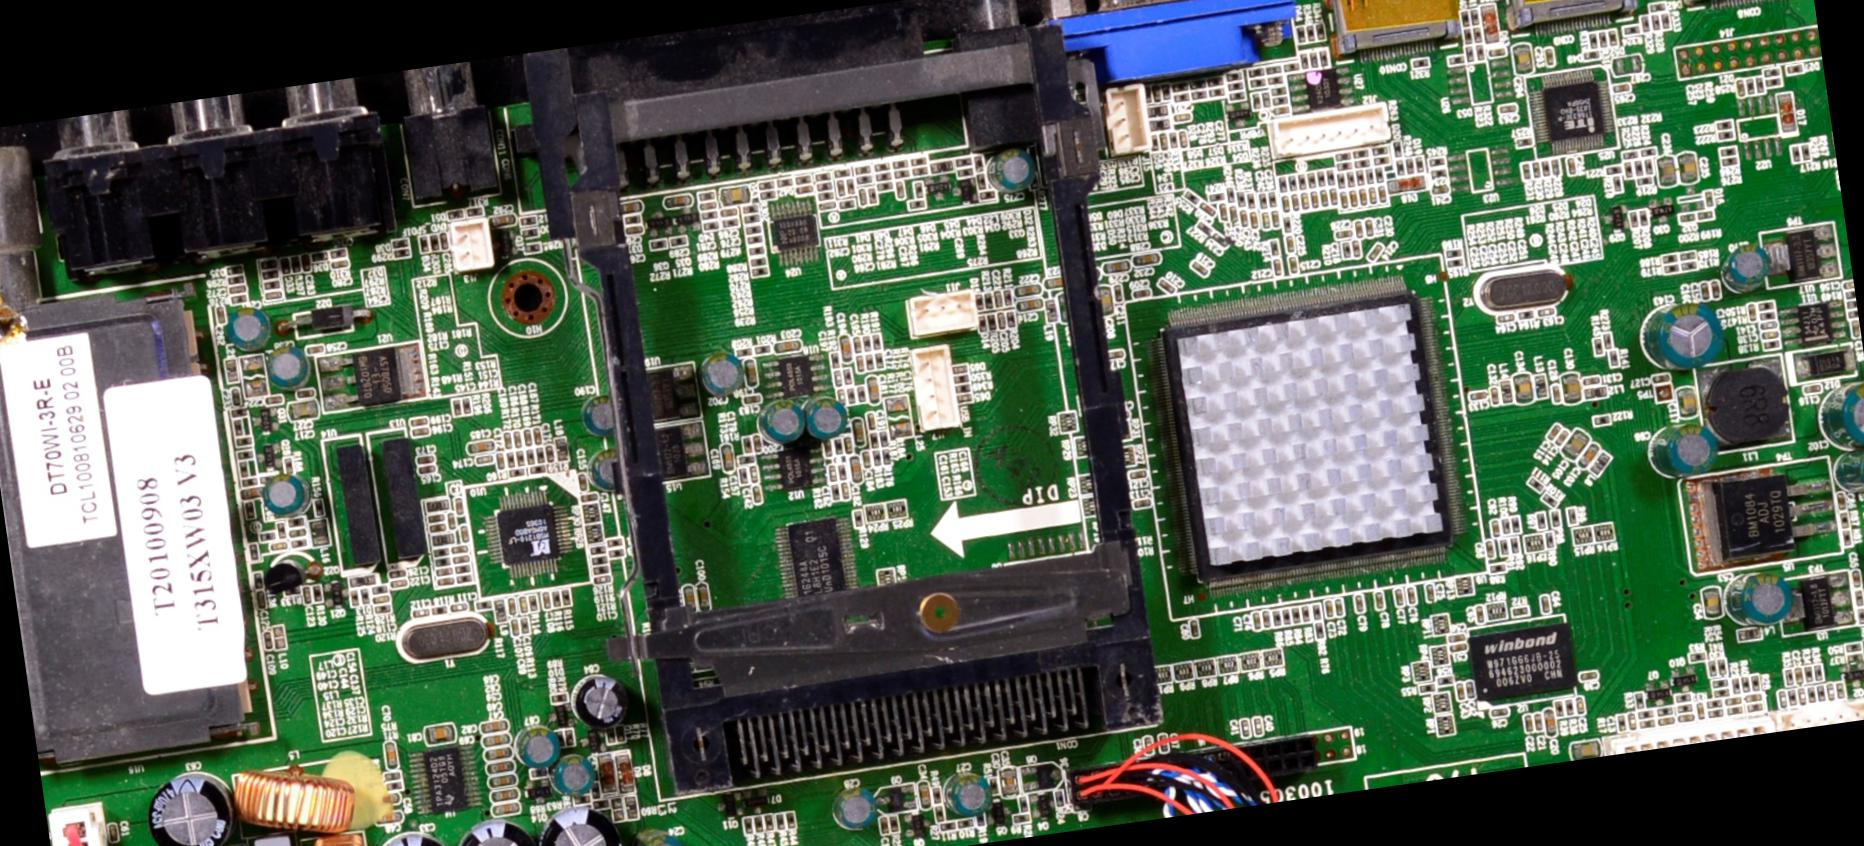Capacitor Jumper: (1723, 572, 1790, 629), (1828, 383, 1863, 448), (990, 149, 1039, 190), (1833, 448, 1863, 491), (1675, 385, 1700, 422), (1510, 39, 1535, 72), (1679, 150, 1701, 183), (422, 722, 456, 744), (1561, 370, 1583, 402), (1611, 53, 1644, 75), (1658, 153, 1680, 187), (289, 399, 320, 422), (1511, 371, 1534, 402), (1568, 739, 1602, 759), (720, 183, 750, 203), (489, 771, 519, 789), (489, 783, 519, 801), (383, 740, 402, 769), (480, 730, 510, 747), (493, 797, 523, 815), (915, 778, 933, 807), (743, 356, 758, 389), (864, 374, 881, 404), (718, 444, 736, 472), (376, 808, 403, 826), (465, 438, 493, 455), (479, 716, 508, 733), (485, 757, 514, 774), (1102, 259, 1132, 274), (1563, 427, 1579, 456), (573, 468, 591, 493), (297, 583, 315, 608), (1486, 702, 1511, 720), (663, 192, 692, 208), (1014, 282, 1043, 297), (838, 335, 854, 364), (850, 416, 865, 443), (506, 615, 523, 640), (1190, 258, 1210, 278), (1132, 252, 1161, 265), (1542, 708, 1557, 733), (1098, 286, 1112, 315), (849, 456, 863, 482), (530, 427, 548, 447), (414, 450, 436, 466), (775, 339, 801, 352), (485, 745, 511, 758), (1043, 276, 1066, 290), (409, 422, 430, 437), (451, 495, 466, 517), (1580, 442, 1595, 463), (433, 563, 458, 576), (266, 538, 289, 553), (1155, 131, 1171, 151), (445, 511, 460, 531), (451, 550, 471, 566), (327, 258, 351, 271), (1016, 297, 1043, 309), (376, 791, 399, 804), (1522, 712, 1535, 735), (1172, 109, 1194, 124), (893, 178, 907, 200), (1131, 494, 1152, 509), (516, 593, 530, 614), (1574, 693, 1588, 714), (617, 200, 642, 211), (1177, 128, 1190, 151), (416, 462, 439, 475), (1155, 732, 1169, 755), (1160, 274, 1176, 293), (523, 428, 537, 448), (1652, 370, 1673, 384), (1372, 592, 1386, 612), (1249, 611, 1264, 631), (1488, 384, 1500, 408), (1429, 182, 1450, 195), (1272, 255, 1285, 277), (1800, 381, 1821, 394), (1238, 718, 1251, 739), (408, 417, 430, 429), (471, 454, 493, 466), (1578, 372, 1600, 384), (1463, 680, 1475, 702), (1495, 103, 1520, 114), (495, 453, 508, 473), (1468, 389, 1488, 402), (504, 596, 517, 617), (1188, 617, 1201, 637), (1322, 599, 1335, 619), (1538, 594, 1551, 614), (1202, 202, 1216, 220), (1214, 229, 1228, 247), (741, 392, 762, 404), (510, 429, 524, 447), (578, 490, 599, 501), (859, 448, 871, 469), (1549, 381, 1561, 403), (1675, 711, 1696, 722), (1107, 345, 1126, 358), (594, 572, 613, 585), (1393, 587, 1406, 606), (623, 222, 646, 233), (1406, 585, 1417, 607), (1150, 83, 1161, 103), (1612, 81, 1632, 93), (817, 198, 837, 210), (1564, 154, 1576, 175), (264, 392, 284, 404), (1849, 317, 1860, 337), (751, 482, 763, 503), (386, 568, 407, 580), (1127, 467, 1147, 479), (1260, 610, 1272, 630), (1725, 705, 1745, 716), (1331, 598, 1346, 614), (1453, 681, 1467, 697), (1709, 280, 1723, 298), (996, 310, 1007, 332), (1259, 88, 1271, 107), (1280, 192, 1292, 211), (1350, 238, 1362, 257), (831, 370, 843, 389), (1699, 280, 1711, 299), (1142, 735, 1154, 755), (1531, 713, 1543, 732), (1626, 711, 1638, 730), (1248, 90, 1261, 107), (1835, 491, 1849, 507), (1451, 640, 1468, 654), (1834, 682, 1847, 699), (748, 461, 758, 481), (1474, 602, 1485, 623), (1252, 715, 1262, 735), (1544, 46, 1556, 64), (1367, 185, 1379, 203), (1377, 187, 1388, 204), (838, 481, 850, 499), (449, 543, 467, 555), (372, 592, 390, 604), (410, 605, 428, 617), (1272, 105, 1291, 115), (1298, 190, 1309, 209), (1491, 519, 1501, 538), (854, 355, 865, 372), (1776, 690, 1788, 707), (436, 576, 456, 586), (447, 601, 467, 611), (1447, 631, 1467, 640), (795, 183, 813, 194), (856, 187, 867, 204), (1734, 77, 1745, 95), (1328, 188, 1339, 206), (1366, 244, 1377, 261), (851, 336, 862, 354), (504, 431, 515, 449), (1795, 688, 1806, 706), (1354, 594, 1366, 610), (697, 200, 716, 209), (719, 207, 738, 216), (1229, 206, 1239, 225), (1240, 208, 1249, 227), (1260, 210, 1270, 229), (1334, 228, 1353, 238), (994, 289, 1003, 308), (865, 412, 875, 431), (1486, 539, 1495, 558), (1425, 581, 1435, 600), (1694, 699, 1704, 718), (1656, 716, 1675, 726), (1339, 191, 1349, 208), (1545, 422, 1556, 438), (836, 178, 845, 196), (1220, 202, 1229, 220), (1114, 283, 1123, 301), (1795, 668, 1805, 686), (1268, 211, 1279, 227), (1746, 692, 1762, 702), (1291, 191, 1301, 208), (1320, 189, 1329, 206), (1132, 288, 1151, 296), (1826, 683, 1835, 700), (1358, 191, 1369, 204), (1488, 46, 1506, 55), (1354, 219, 1362, 236), (844, 435, 852, 453), (1580, 669, 1598, 677), (1310, 192, 1320, 208), (1348, 191, 1358, 207), (459, 524, 468, 539), (1555, 429, 1566, 442), (389, 579, 405, 587), (1746, 703, 1763, 712), (1289, 257, 1298, 271), (821, 441, 831, 455), (1287, 236, 1296, 252), (227, 283, 245, 290), (1251, 211, 1258, 229), (1366, 217, 1373, 235), (837, 387, 844, 405), (1726, 697, 1743, 705), (1841, 280, 1853, 290), (829, 466, 836, 481)
Connector: (0, 112, 276, 760), (34, 76, 385, 271), (1050, 0, 1306, 103), (383, 57, 512, 227), (1316, 0, 1457, 72)
IC: (1125, 260, 1482, 612), (1687, 457, 1846, 568), (467, 474, 590, 595), (372, 423, 436, 569), (1466, 623, 1578, 706), (1524, 63, 1620, 159), (313, 339, 432, 415), (326, 435, 386, 575), (769, 512, 858, 600), (1758, 221, 1844, 288), (407, 740, 480, 814), (1787, 569, 1854, 633), (769, 202, 821, 265), (1457, 141, 1513, 196), (1289, 67, 1354, 112), (1449, 59, 1512, 106), (1787, 297, 1841, 347), (1737, 95, 1781, 157)
Resistor Jumper: (865, 500, 887, 523), (884, 498, 906, 518), (326, 247, 352, 263), (588, 551, 607, 570), (732, 343, 754, 360), (547, 690, 572, 705), (380, 778, 405, 793), (741, 435, 756, 457), (850, 506, 864, 530), (379, 766, 403, 781), (751, 341, 773, 356), (432, 534, 456, 547), (741, 814, 756, 834), (1567, 504, 1580, 528), (225, 273, 246, 288), (1849, 568, 1863, 589), (1511, 602, 1534, 615), (1621, 20, 1641, 36), (782, 810, 798, 829), (1340, 240, 1354, 260), (273, 520, 288, 541), (1010, 812, 1031, 826), (527, 461, 548, 474), (1593, 337, 1606, 359), (430, 553, 452, 566), (452, 562, 473, 575), (1549, 507, 1562, 529), (1543, 530, 1556, 551), (1416, 681, 1437, 694), (813, 168, 831, 183), (1812, 664, 1827, 682), (1314, 23, 1328, 42), (1175, 90, 1194, 105), (228, 290, 247, 304), (542, 444, 556, 463), (1632, 690, 1646, 709), (283, 514, 306, 526), (263, 278, 283, 291), (1514, 135, 1535, 149), (1005, 308, 1018, 328), (505, 467, 525, 480), (369, 581, 389, 594), (1509, 513, 1522, 534), (1688, 650, 1708, 663), (911, 178, 925, 196), (514, 446, 525, 467), (1840, 526, 1854, 544), (1298, 604, 1310, 625), (1753, 75, 1767, 94), (907, 196, 926, 209), (649, 238, 668, 251), (1789, 144, 1802, 163), (1696, 208, 1715, 221), (831, 438, 844, 457), (519, 612, 530, 634), (1305, 23, 1317, 43), (774, 176, 794, 188), (874, 179, 894, 191), (231, 418, 243, 438), (735, 465, 747, 485), (427, 520, 447, 532), (1509, 535, 1520, 555), (1267, 239, 1281, 255), (1586, 29, 1599, 46), (1627, 209, 1641, 227), (1677, 209, 1695, 222), (859, 334, 873, 352), (1531, 476, 1544, 494), (1839, 512, 1852, 530), (763, 812, 776, 829), (751, 814, 764, 832), (1018, 795, 1031, 813), (718, 216, 739, 227), (286, 528, 308, 538), (424, 511, 446, 522), (1636, 709, 1657, 720), (1246, 65, 1265, 77), (1159, 82, 1171, 101), (1204, 84, 1223, 96), (699, 208, 718, 220), (668, 234, 687, 246), (1633, 160, 1645, 179), (1002, 288, 1014, 307), (870, 332, 882, 351), (829, 351, 840, 370), (1682, 260, 1701, 272), (1608, 349, 1620, 368), (348, 587, 360, 606), (1535, 511, 1547, 530), (1499, 539, 1511, 558), (1314, 619, 1325, 638), (989, 776, 1001, 795), (930, 787, 942, 806), (934, 804, 946, 823), (1847, 651, 1863, 665), (1728, 678, 1744, 693), (1252, 76, 1268, 89), (290, 536, 307, 549), (432, 543, 448, 556), (1335, 160, 1355, 171), (1715, 130, 1736, 140), (1718, 146, 1738, 157), (983, 290, 994, 310), (452, 396, 462, 416), (1593, 413, 1613, 424), (559, 586, 569, 606), (1469, 6, 1479, 29), (528, 588, 537, 611), (756, 178, 774, 190), (758, 188, 776, 200), (815, 179, 833, 191), (744, 222, 762, 234), (1373, 153, 1391, 165), (1620, 147, 1638, 159), (1541, 160, 1553, 178), (1800, 143, 1812, 160), (460, 396, 472, 413), (237, 459, 248, 476), (955, 383, 972, 394), (1435, 673, 1453, 684), (1616, 714, 1627, 732), (1460, 7, 1471, 26), (1228, 81, 1247, 91), (1228, 91, 1247, 102), (699, 219, 718, 229), (1765, 76, 1784, 87), (744, 234, 763, 245), (1297, 170, 1308, 189), (1205, 190, 1224, 201), (1284, 215, 1295, 234), (1661, 252, 1680, 263), (1601, 332, 1612, 351), (258, 529, 277, 539), (455, 575, 477, 585), (372, 604, 393, 613), (1312, 601, 1323, 620), (1713, 686, 1732, 696), (1054, 788, 1065, 807), (1226, 68, 1241, 81), (1224, 185, 1238, 201), (593, 562, 609, 575), (1281, 61, 1298, 72), (1597, 29, 1608, 45), (972, 154, 984, 171), (976, 172, 988, 189), (839, 196, 856, 208), (1392, 140, 1404, 157), (1639, 145, 1656, 157), (862, 353, 874, 370), (873, 352, 884, 368), (240, 475, 257, 487), (248, 544, 260, 561), (830, 482, 842, 499), (358, 587, 370, 604), (473, 598, 490, 610), (908, 157, 928, 166), (1636, 177, 1656, 187), (604, 536, 624, 545), (889, 812, 899, 832), (856, 173, 874, 184), (752, 266, 770, 277), (1605, 163, 1623, 173), (1612, 175, 1623, 192), (1638, 208, 1649, 226), (523, 448, 534, 466), (251, 572, 262, 589), (588, 543, 606, 554), (548, 588, 559, 606), (1290, 606, 1301, 624), (1674, 692, 1692, 702), (1787, 689, 1797, 707), (1706, 707, 1724, 718), (1461, 29, 1474, 43), (1373, 168, 1386, 182), (1188, 189, 1199, 204), (1245, 192, 1257, 208), (534, 448, 546, 463), (870, 448, 882, 463), (880, 449, 892, 465), (1852, 589, 1864, 605), (1739, 676, 1751, 692), (1751, 674, 1763, 689), (1802, 667, 1814, 682), (1676, 701, 1692, 713), (852, 163, 871, 172), (1331, 150, 1350, 159), (1306, 168, 1316, 187), (1553, 158, 1562, 177), (1720, 156, 1739, 165), (235, 450, 254, 460), (1679, 250, 1698, 259), (1663, 261, 1682, 271), (607, 547, 626, 556), (1718, 657, 1727, 676), (938, 821, 957, 831), (956, 157, 972, 168), (428, 233, 439, 250), (748, 245, 764, 255), (1429, 156, 1446, 166), (1277, 175, 1287, 191), (1236, 190, 1247, 207), (1644, 159, 1655, 176), (953, 373, 970, 384), (1491, 563, 1507, 574), (1844, 640, 1860, 651), (1708, 658, 1719, 675), (1784, 668, 1795, 684), (1554, 701, 1564, 718), (1205, 76, 1223, 86), (1641, 14, 1650, 32), (1411, 57, 1429, 67), (794, 175, 812, 184), (742, 203, 760, 213), (1717, 120, 1734, 130), (1354, 169, 1366, 183), (235, 436, 253, 446), (856, 385, 865, 403), (506, 449, 516, 467), (1473, 26, 1484, 42), (1475, 45, 1486, 61), (743, 211, 758, 222), (1353, 146, 1368, 157), (1316, 170, 1327, 185), (836, 465, 846, 480), (1805, 686, 1815, 701), (890, 157, 909, 165), (912, 165, 928, 175), (845, 177, 855, 194), (867, 187, 876, 203), (1325, 168, 1335, 184), (1406, 158, 1416, 175), (749, 255, 766, 265), (1520, 160, 1530, 177), (987, 312, 996, 329), (1272, 608, 1281, 625), (1564, 700, 1574, 716), (775, 813, 785, 829), (1815, 684, 1825, 701), (1191, 88, 1204, 100), (1544, 492, 1556, 505), (1286, 173, 1297, 188), (1345, 172, 1355, 187), (1531, 160, 1542, 175), (817, 192, 835, 201), (978, 190, 996, 198), (844, 368, 852, 386), (1705, 699, 1723, 707), (1651, 13, 1661, 29), (1465, 44, 1474, 59), (1268, 74, 1284, 83), (833, 166, 849, 176), (845, 386, 855, 402), (429, 604, 445, 613), (1639, 719, 1655, 728), (875, 171, 892, 179), (1371, 145, 1387, 153), (1501, 517, 1510, 534), (1656, 706, 1673, 714), (956, 819, 972, 827), (958, 168, 972, 177), (1434, 168, 1448, 177), (1625, 160, 1635, 175), (894, 169, 909, 177), (1354, 158, 1369, 166), (1270, 190, 1278, 206), (1257, 194, 1267, 206), (879, 429, 886, 447), (1364, 170, 1373, 183), (1336, 173, 1346, 187), (1448, 53, 1462, 62), (875, 160, 889, 169), (1281, 606, 1289, 623), (1271, 84, 1281, 95), (1845, 289, 1854, 301), (870, 433, 877, 448), (1713, 678, 1728, 686), (1272, 95, 1286, 102), (1847, 309, 1857, 317), (1846, 302, 1856, 309)
Transistor: (1669, 667, 1699, 688), (1644, 683, 1673, 701), (957, 178, 976, 203), (1608, 204, 1626, 229), (670, 211, 698, 226), (1840, 663, 1863, 680), (646, 214, 669, 229), (1650, 202, 1675, 216), (926, 179, 950, 192)
